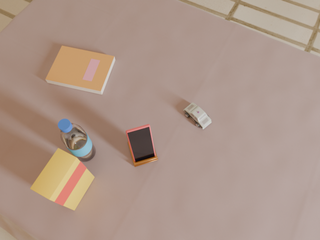book: (46, 46, 115, 94)
bottle: (58, 119, 96, 162)
box: (30, 148, 94, 210)
phone: (126, 124, 155, 162)
toy_car: (184, 103, 211, 129)
